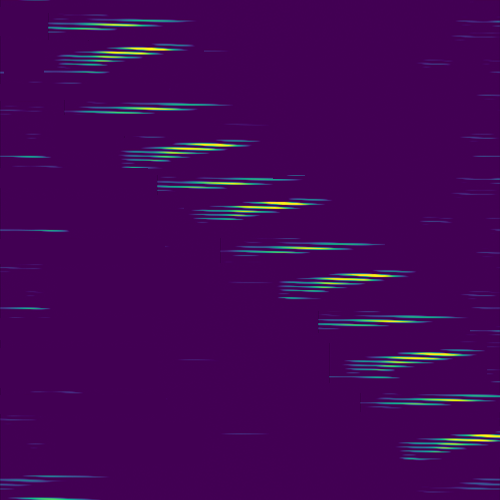semblance: (59, 44, 175, 63), (44, 13, 152, 33), (137, 140, 239, 160), (306, 269, 398, 291), (373, 349, 460, 371), (218, 198, 313, 218), (430, 429, 500, 451), (417, 394, 476, 407), (201, 178, 254, 188), (138, 103, 184, 113), (364, 317, 415, 325), (282, 244, 332, 252)
